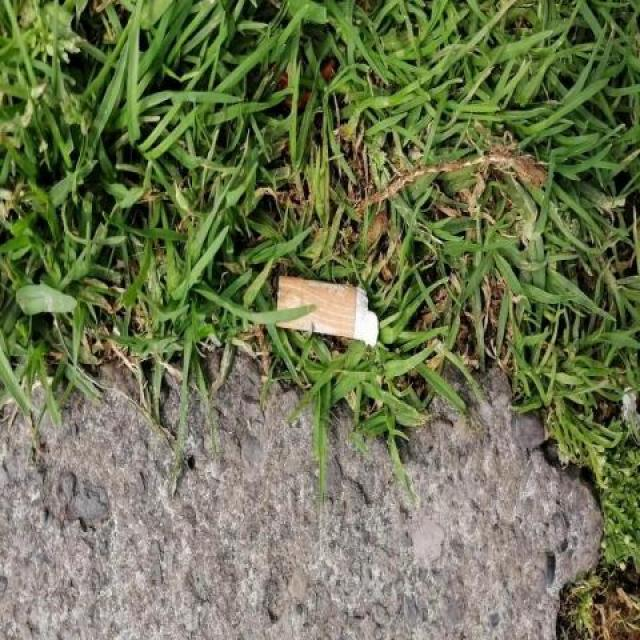non-organic waste: (272, 270, 381, 350)
